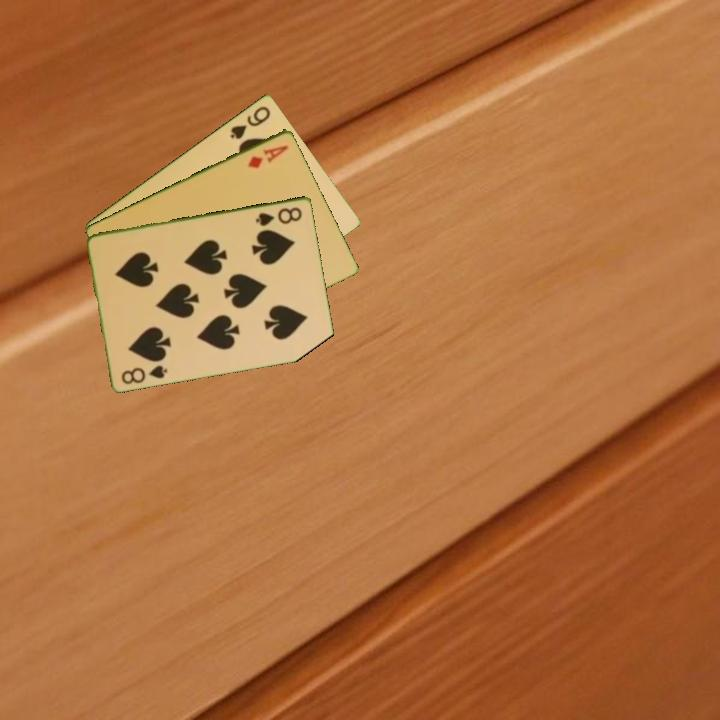8s: (252, 203, 305, 229), (118, 361, 170, 387)
9s: (226, 102, 274, 142)
Ad: (244, 141, 292, 171)
